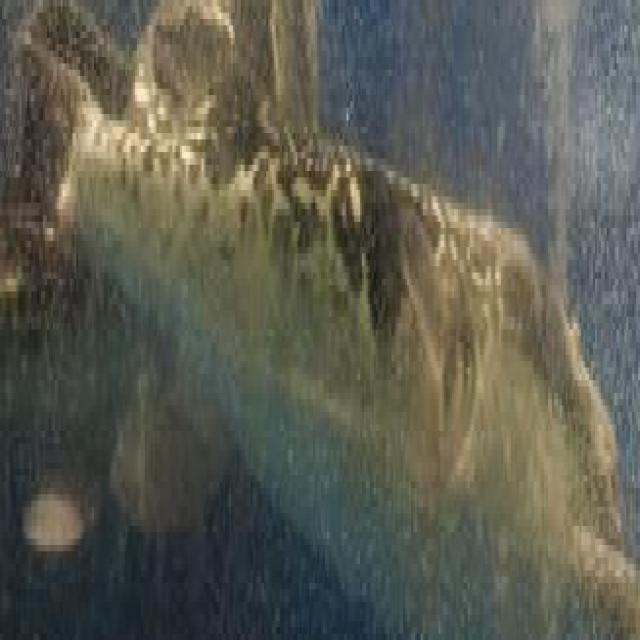fish: (2, 6, 640, 640)
